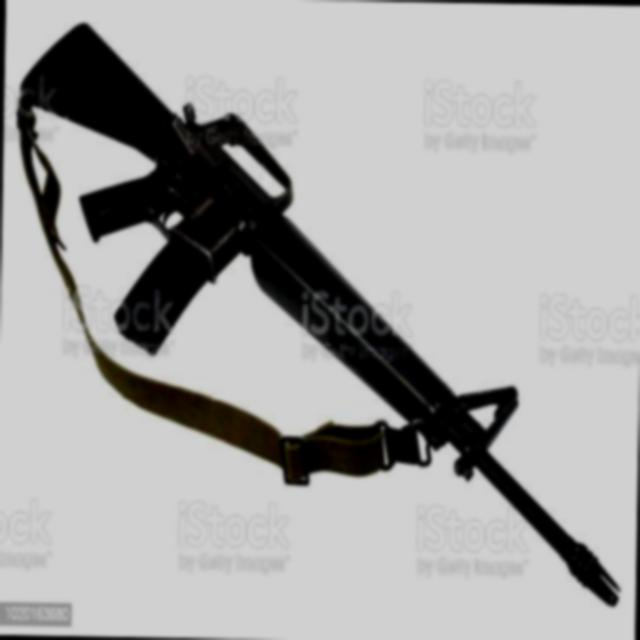m16: (23, 13, 593, 544)
